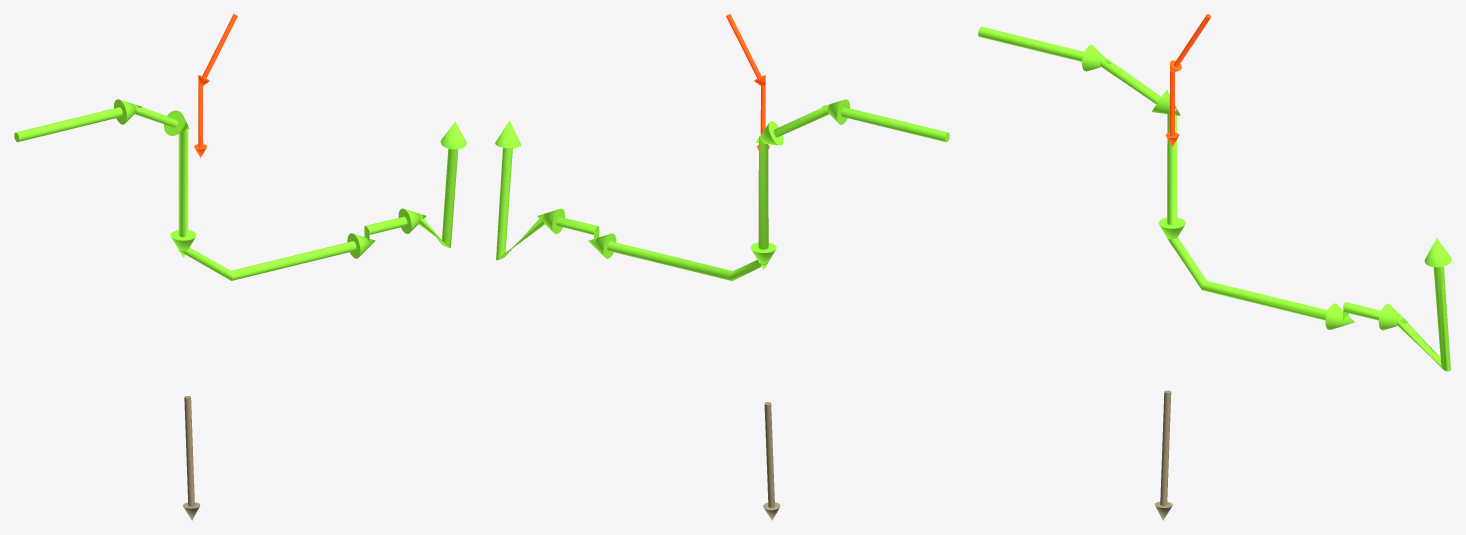
Rendered from spray_dryer_flow.glb.
3 views of the same model, side by side, from view 1: azimuth 30°, elevation 25°; view 2: azimuth 150°, elevation 25°; view 3: azimuth 330°, elevation 25° (orthographic). The views are drawn at different scales.
Parts seen in each view (by area): view 1: hot_air, powder, feed; view 2: hot_air, powder, feed; view 3: hot_air, powder, feed.
Part boxes in pixels (box(x1,y1,x2,y2)): hot_air: box(14, 99, 466, 280); powder: box(183, 396, 200, 520); feed: box(194, 14, 237, 157); hot_air: box(495, 99, 949, 280); powder: box(763, 402, 780, 520); feed: box(726, 14, 769, 150); hot_air: box(978, 27, 1451, 371); powder: box(1154, 390, 1172, 520); feed: box(1165, 14, 1211, 146).
Bounding box in the file's own units: 3.08 × 3.25 × 0.256.
